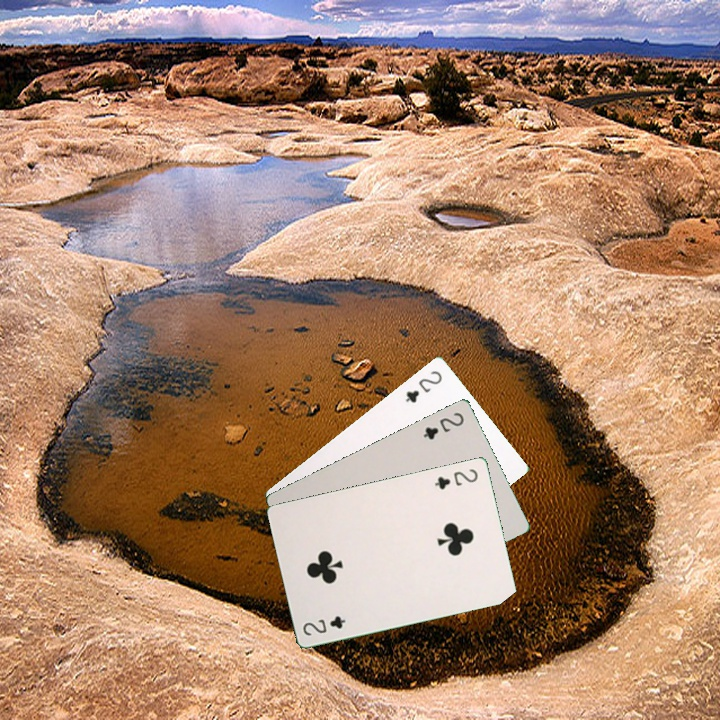2c: (401, 366, 445, 405), (419, 408, 467, 442), (430, 465, 480, 492), (299, 612, 348, 638)
